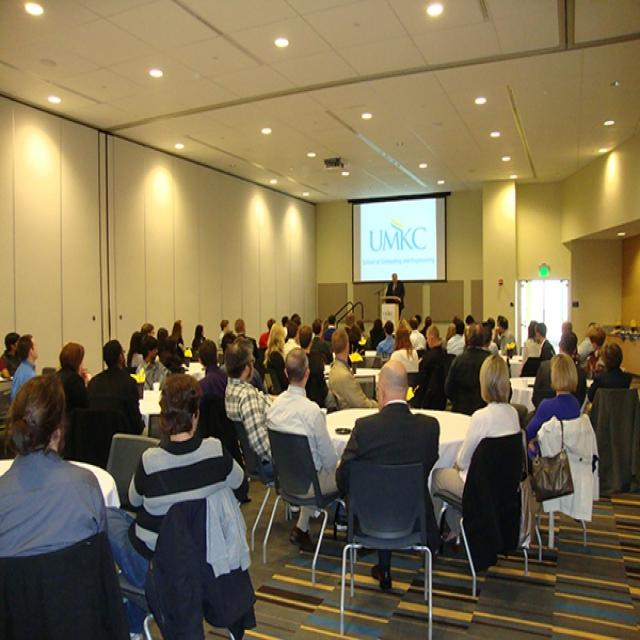body: (104, 371, 248, 592), (332, 355, 449, 596), (0, 363, 109, 563), (430, 351, 521, 552), (264, 346, 342, 556), (223, 334, 277, 482), (524, 351, 581, 465), (86, 337, 148, 435), (529, 328, 589, 416), (325, 324, 380, 416), (444, 320, 494, 418), (557, 317, 628, 380), (216, 328, 266, 399), (414, 324, 452, 414), (192, 337, 230, 425), (304, 321, 339, 414), (586, 341, 634, 407), (304, 317, 335, 410), (133, 334, 173, 403), (54, 340, 88, 410), (8, 333, 40, 407), (443, 312, 497, 354), (261, 321, 289, 397), (154, 317, 188, 376), (340, 311, 378, 360), (388, 322, 418, 372), (518, 318, 542, 377), (278, 306, 310, 348), (395, 312, 434, 344), (232, 317, 258, 361), (384, 270, 406, 322), (0, 330, 22, 380), (520, 318, 542, 368), (492, 314, 517, 357), (279, 318, 302, 362), (446, 320, 468, 356), (375, 320, 396, 356), (126, 330, 145, 367), (218, 317, 236, 356), (406, 319, 427, 351), (344, 310, 362, 346), (369, 317, 387, 353), (191, 323, 208, 361), (257, 316, 276, 350), (492, 314, 509, 352), (321, 313, 338, 341), (0, 351, 12, 381), (139, 321, 158, 337)
